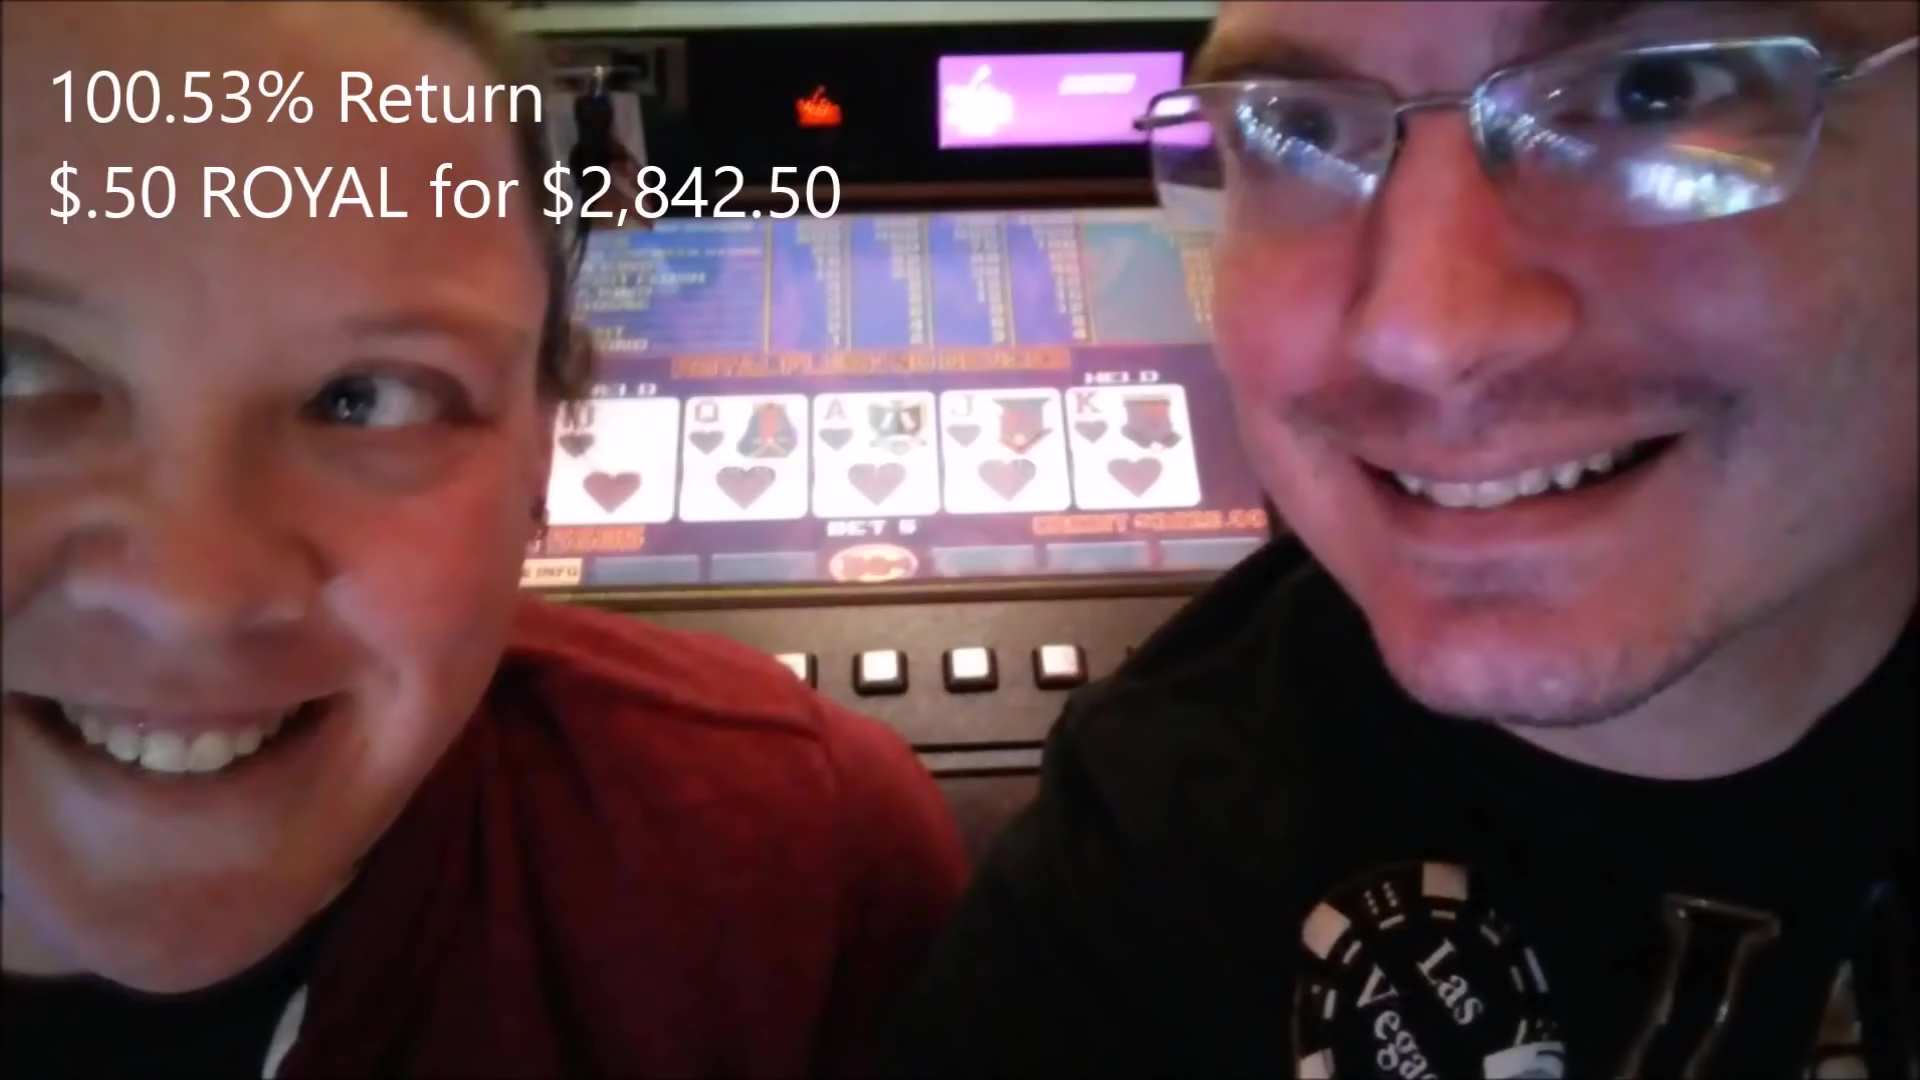HA: (816, 393, 938, 473)
HJ: (945, 390, 1058, 465)
HK: (1069, 382, 1187, 459)
HQ: (680, 393, 806, 464)
